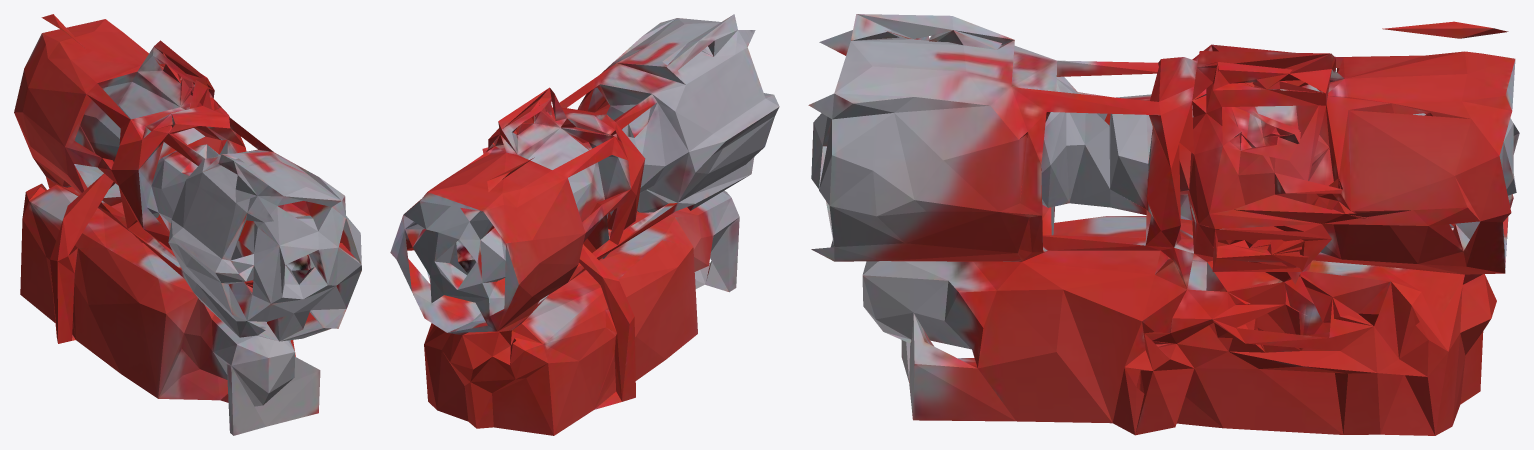
Rendered from valve_wheel.glb.
3 renders of one model, left to right at view 1: azimuth 30°, elevation 25°; view 2: azimuth 150°, elevation 25°; view 3: azimuth 270°, elevation 25°, orthographic. The views are drawn at different scales.
Visible parts, largest first — view 1: textured_mesh.obj; view 2: textured_mesh.obj; view 3: textured_mesh.obj.
Boxes of the visible parts, bbox=[...] form: textured_mesh.obj: bbox=[14, 14, 361, 435]; textured_mesh.obj: bbox=[390, 14, 779, 435]; textured_mesh.obj: bbox=[808, 14, 1519, 435].
Bounding box in the file's own units: 0.8117 × 1.2 × 2.13.
1 material, 1 textured.
